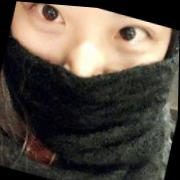WRONG: (1, 1, 173, 170)
